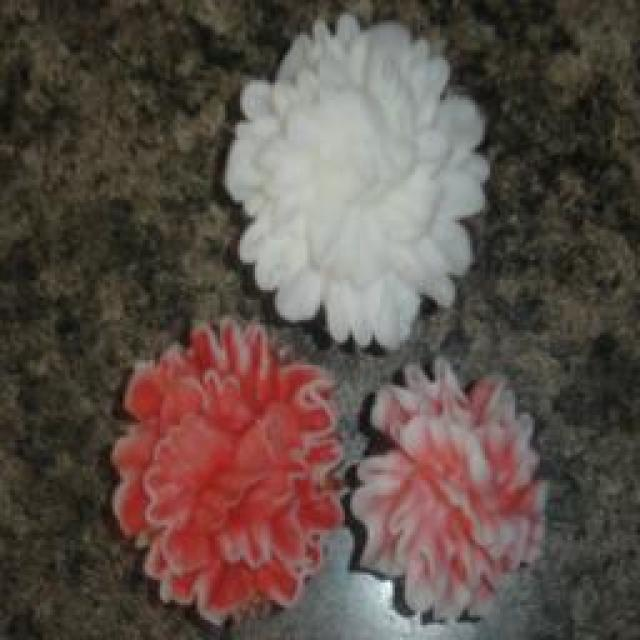carnation: (221, 15, 513, 357)
